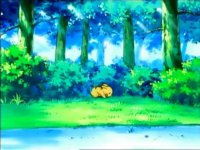pikachu: (91, 82, 117, 104)
